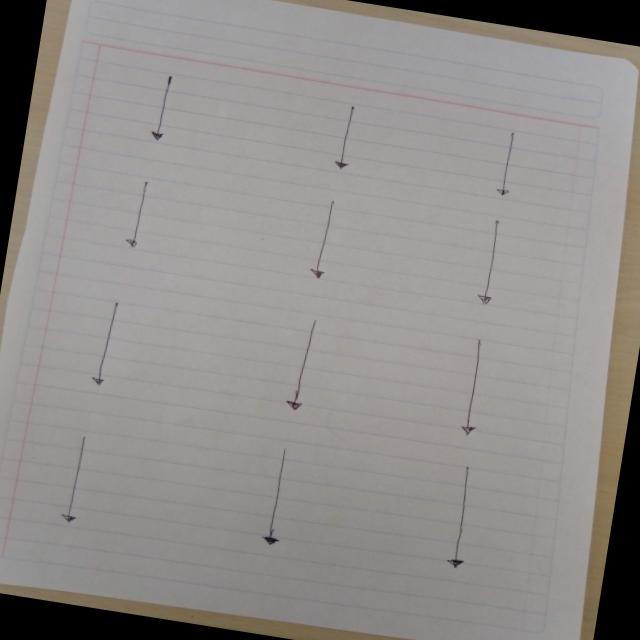arrow_line_down: (438, 464, 491, 578), (454, 330, 504, 440), (74, 296, 130, 390), (261, 449, 305, 554), (280, 320, 326, 418), (467, 215, 512, 306), (56, 436, 96, 534), (484, 127, 530, 206), (117, 178, 162, 258), (142, 70, 188, 146), (304, 198, 345, 283), (334, 101, 366, 180)
